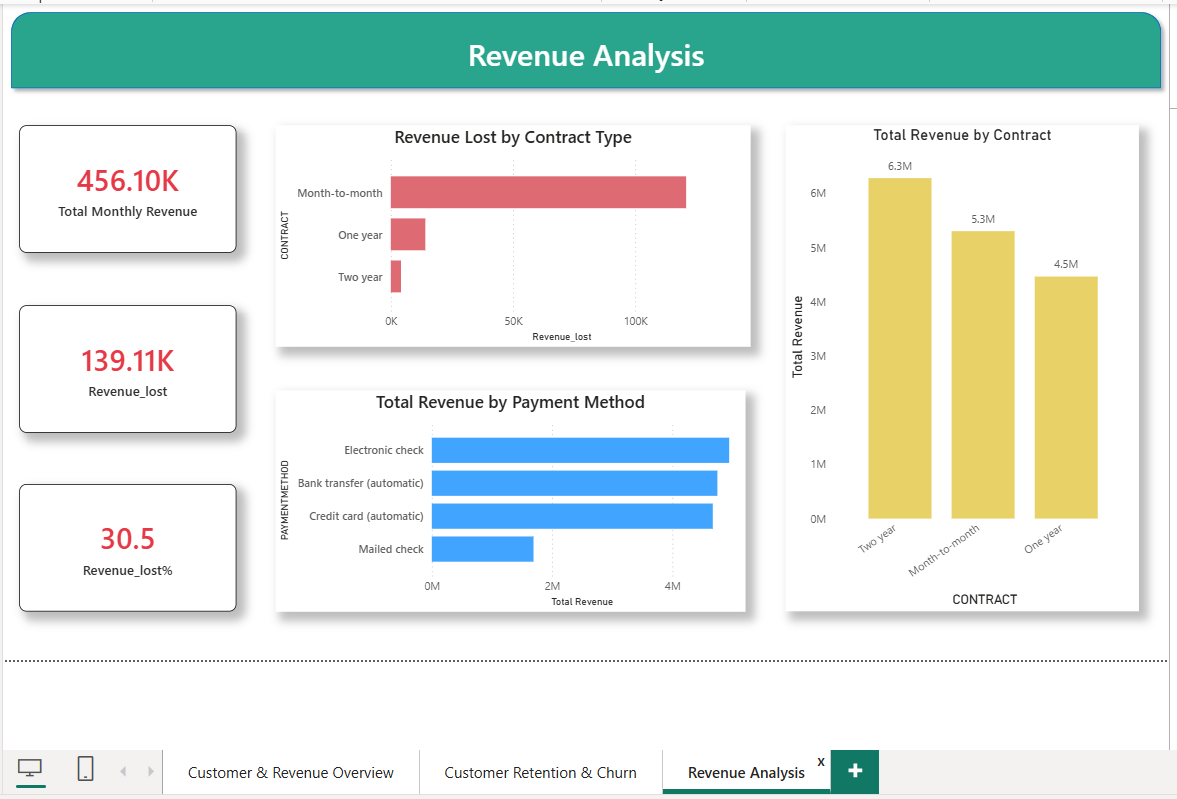

This screenshot's page, from the dashboard's own definition file:
{"tool":"powerbi","page":{"name":"Revenue Analysis","canvas":[1280,720],"ordinal":2},"visuals":[{"type":"columnChart","title":"Total Revenue by Contract","fields":{"Category":["DIM_CONTRACT.CONTRACT"],"Y":["DIM_CONTRACT.Total Revenue"]},"box":[859,133.1,388.3,533.8],"z":0},{"type":"clusteredBarChart","title":"Total Revenue by Payment Method","fields":{"Category":["DIM_CONTRACT.PAYMENTMETHOD"],"Y":["DIM_CONTRACT.Total Revenue"]},"box":[299.1,424,516,242.9],"z":1000},{"type":"shape","box":[0,0,1280.3,101.5],"z":2000},{"type":"clusteredBarChart","title":"Revenue Lost by Contract Type","fields":{"Category":["DIM_CONTRACT.CONTRACT"],"Y":["DIM_CONTRACT.Revenue_lost"]},"box":[299.1,133.1,521.4,242.9],"z":3000},{"type":"card","fields":{"Values":["DIM_CONTRACT.%Revenue_lost by Contract"]},"box":[17.8,526.9,238.8,140],"z":4000},{"type":"card","fields":{"Values":["DIM_CONTRACT.total_revenue_monthly"]},"box":[17.8,133.1,238.8,140],"z":5000},{"type":"card","fields":{"Values":["DIM_CONTRACT.Revenue_lost"]},"box":[17.8,330.7,238.8,140],"z":6000}]}

Visuals, with their boxes on the page's 1280x720 design canvas (x1, y1, x2, y2). These are canvas units, not pixel positions in the 1177x799 screenshot, which may show the page scaled, cropped or inside an application window:
"Total Revenue by Contract" columnChart: [x1=859, y1=133, x2=1247, y2=667]
"Total Revenue by Payment Method" clusteredBarChart: [x1=299, y1=424, x2=815, y2=667]
shape: [x1=0, y1=0, x2=1280, y2=102]
"Revenue Lost by Contract Type" clusteredBarChart: [x1=299, y1=133, x2=820, y2=376]
card - DIM_CONTRACT.%Revenue_lost by Contract: [x1=18, y1=527, x2=257, y2=667]
card - DIM_CONTRACT.total_revenue_monthly: [x1=18, y1=133, x2=257, y2=273]
card - DIM_CONTRACT.Revenue_lost: [x1=18, y1=331, x2=257, y2=471]
